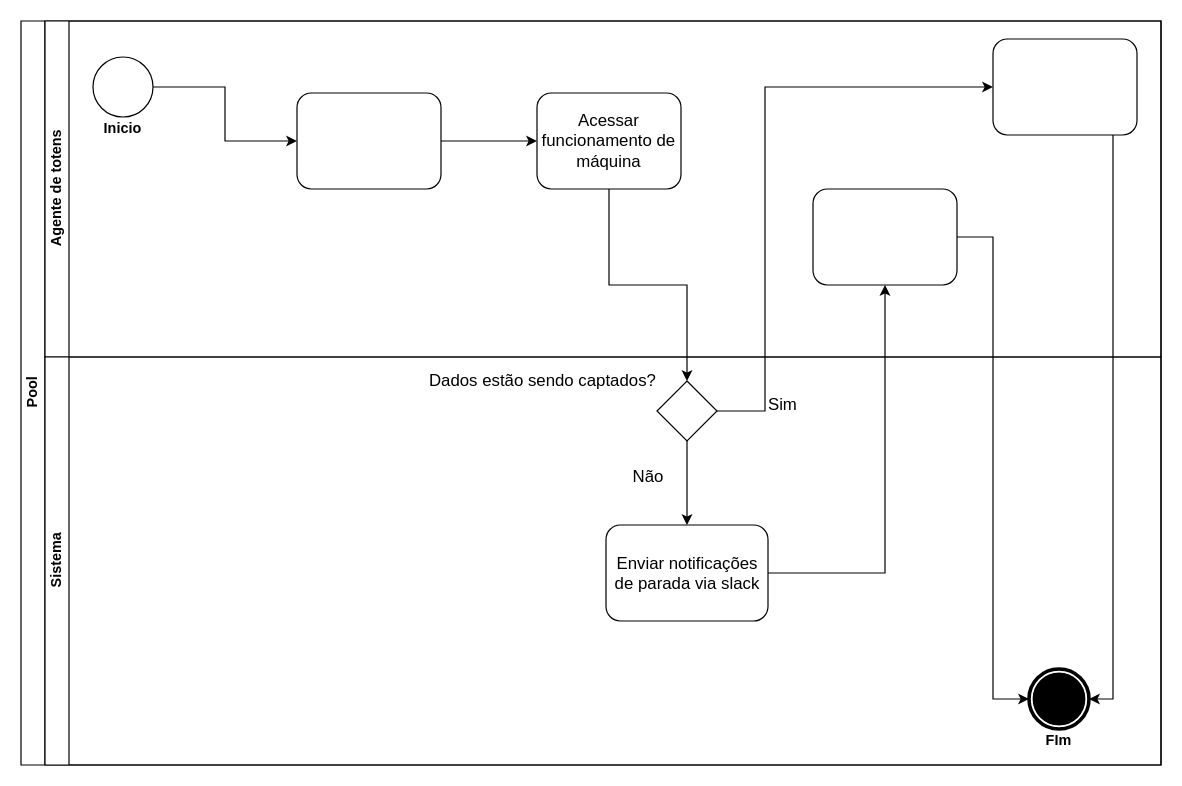
Some shapes in this 1182 by 786 pixel diagram are drawn without their labels. Each missing label, with the centre of its shape:
"Acessar dashboard" belongs at (x=368, y=140).
"Receber alertas e indicadores" belongs at (x=1064, y=86).
"Receber notificaão de parada via mobile" belongs at (x=884, y=236).
